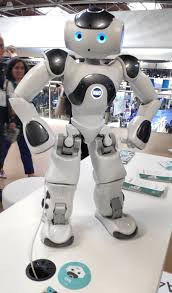nao: (9, 4, 172, 266)
